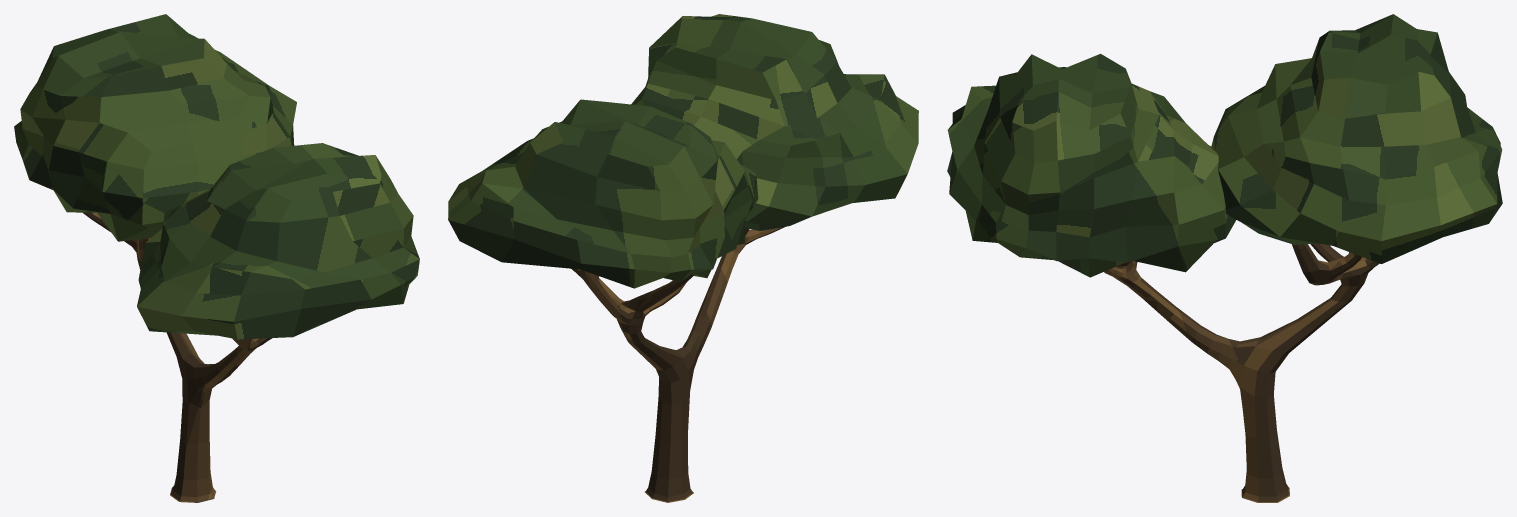
Rendered from Nature_Common.fbx.
3 views of the same model, side by side, from view 1: azimuth 30°, elevation 25°; view 2: azimuth 150°, elevation 25°; view 3: azimuth 270°, elevation 25° (orthographic). The views are drawn at different scales.
Visible parts, largest first — view 1: Nature_Common; view 2: Nature_Common; view 3: Nature_Common.
Part boxes in pixels (x1,y1,x2,y2): Nature_Common: (14,14,419,502); Nature_Common: (448,14,918,502); Nature_Common: (947,14,1502,502).
Size of the model in its own units: 419 by 550 by 615.
